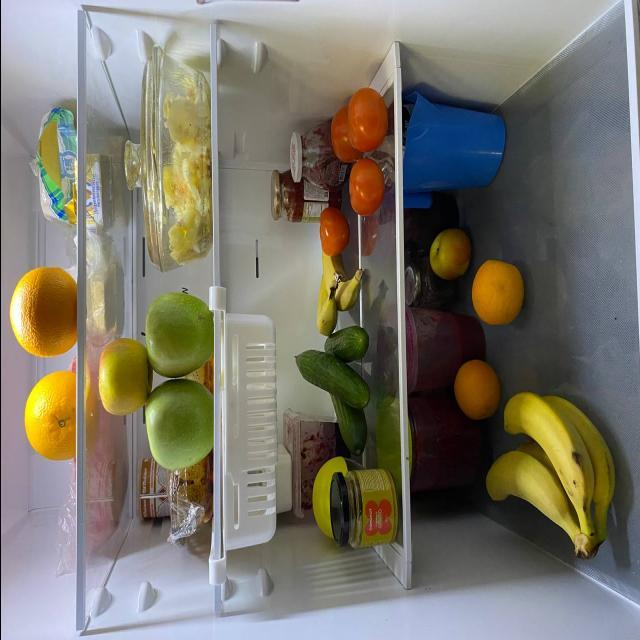Apple: (140, 292, 214, 378), (144, 378, 214, 468), (97, 336, 152, 414), (429, 228, 471, 278)
Banana: (486, 390, 616, 554), (320, 252, 361, 312), (314, 270, 336, 336)
Cucumber: (294, 349, 368, 408), (328, 391, 366, 452), (321, 326, 367, 366)
Orange: (9, 266, 76, 356), (23, 370, 76, 460), (471, 259, 523, 325), (454, 358, 499, 418)
Tomato: (346, 87, 388, 153), (348, 157, 384, 217), (331, 105, 362, 163), (318, 205, 348, 258)
